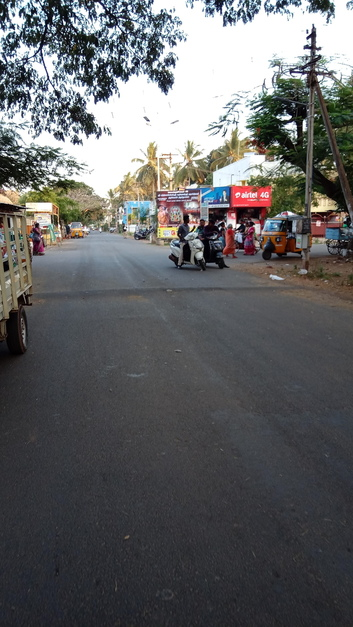bump: (34, 283, 308, 306)
